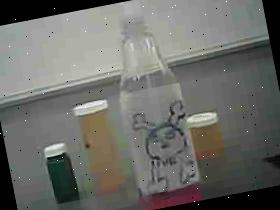Bottle A: (62, 91, 136, 201)
Bottle B: (186, 100, 234, 164)
Bottle C: (38, 130, 87, 203)
hazard: (91, 0, 213, 210)
